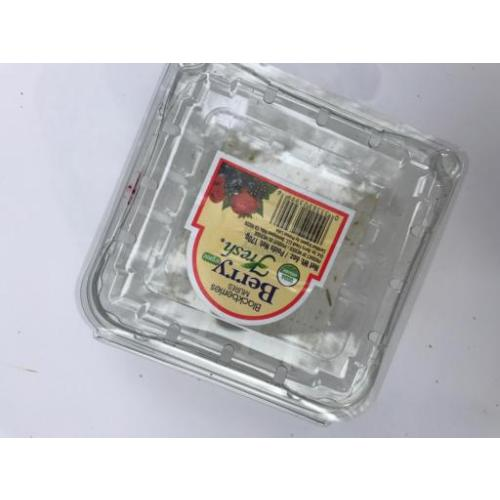plastic: (76, 64, 470, 431)
